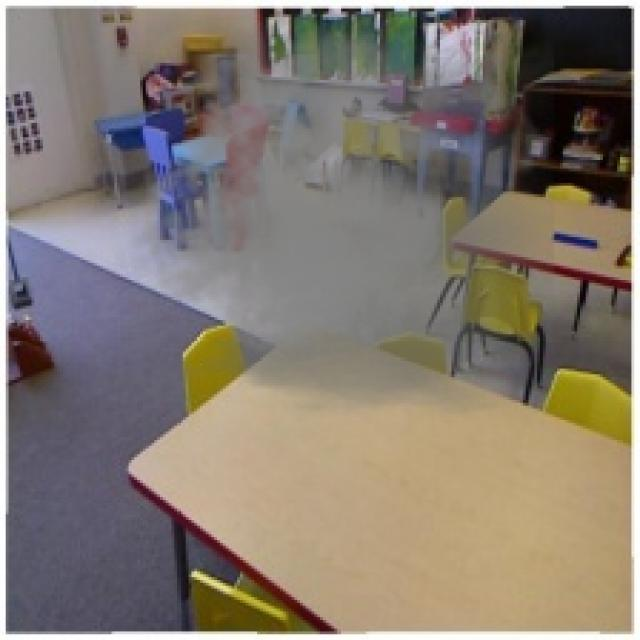smoke: (132, 9, 554, 417)
